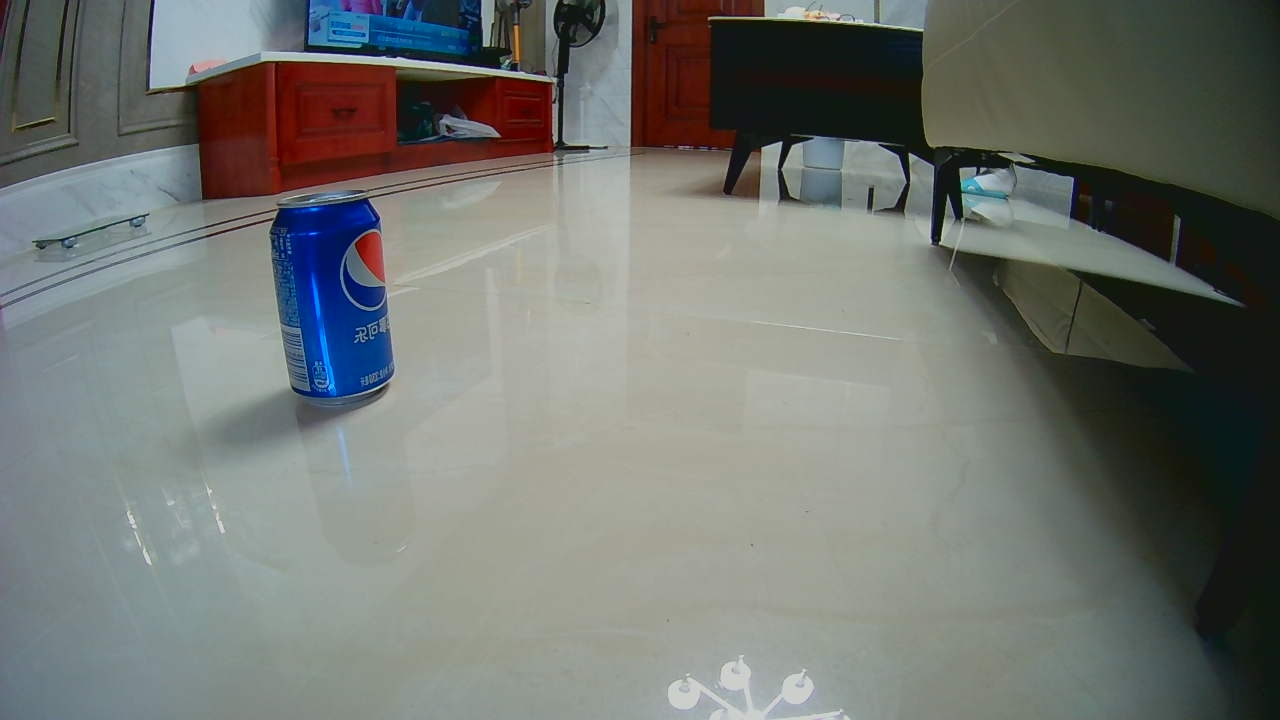pessi: (269, 190, 395, 396)
